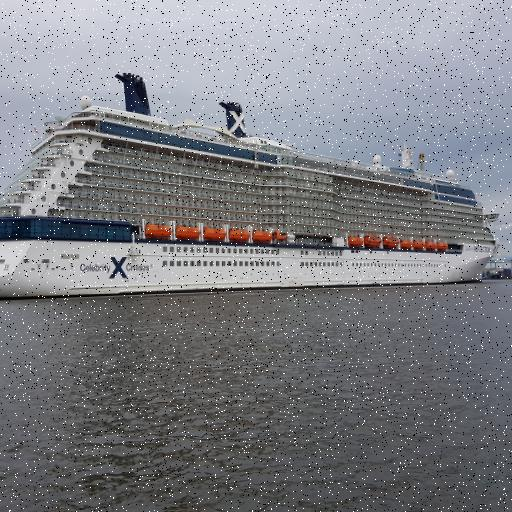cruises: (1, 69, 502, 308)
